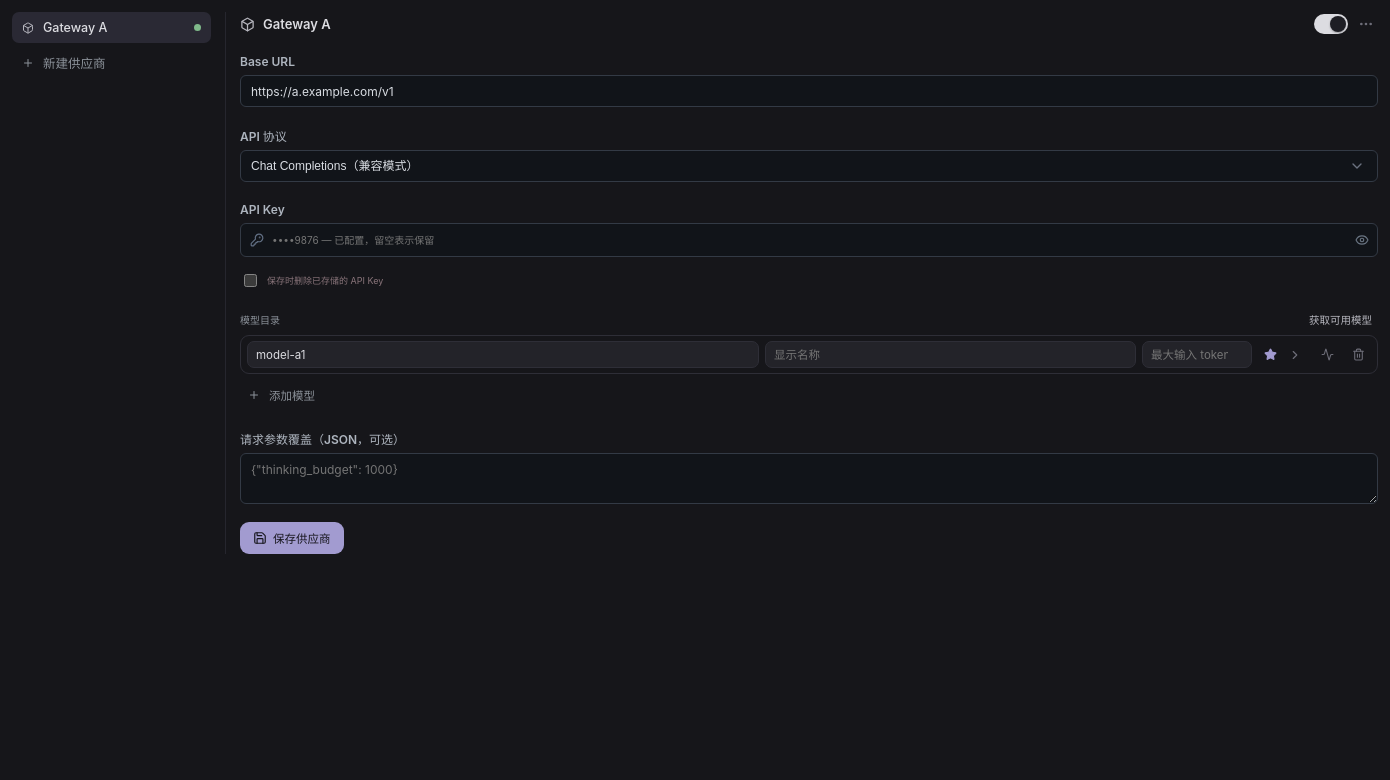
Test: ProviderManager › uses a header switch for enabled and renames from the ⋯ menu
The image size is (1390, 780).
Expected: the button named "更多操作" is shown, [1354,12,1378,36]
Click the switch named "启用该供应商" at (1331, 24), box [1314,14,1348,34]
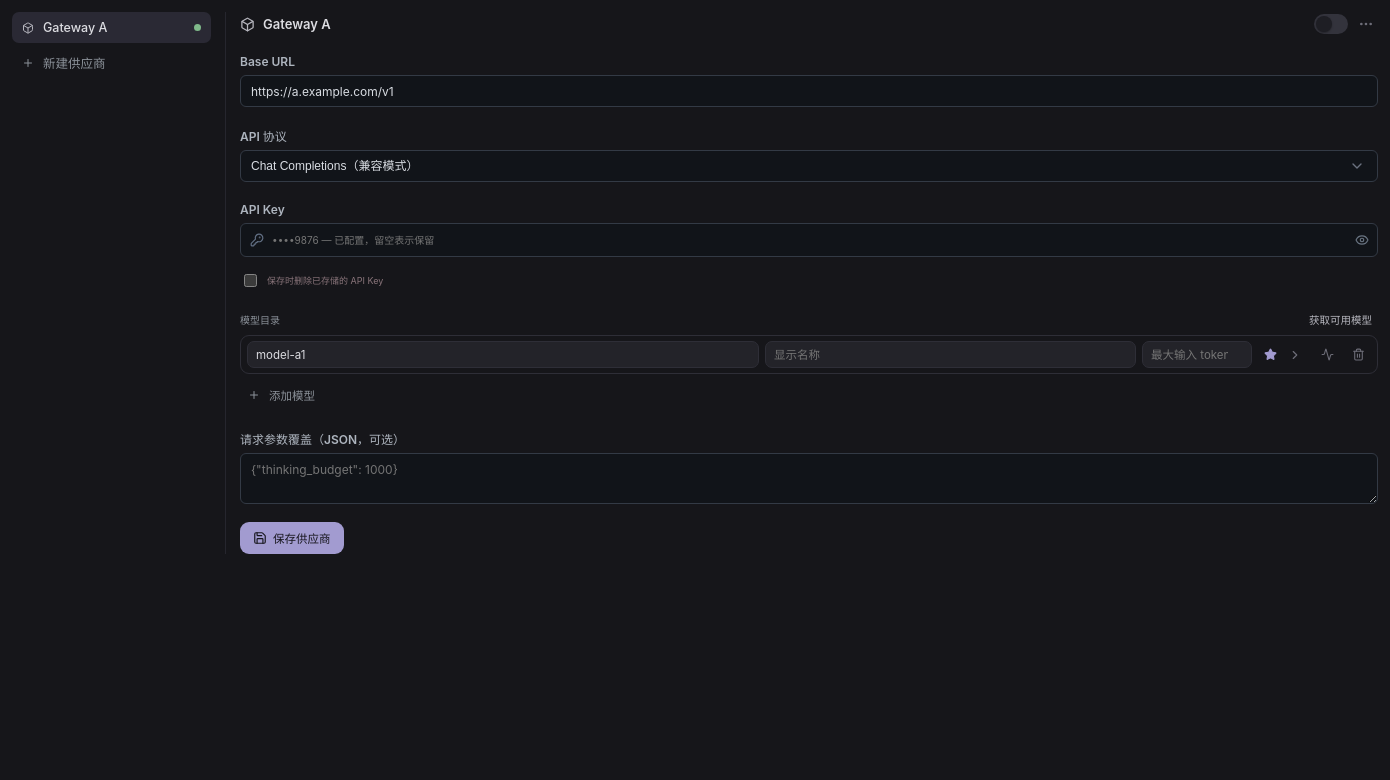
Expected: the switch named "启用该供应商" is not checked, [1314,14,1348,34]
Click the button named "更多操作" at (1366, 24), box [1354,12,1378,36]
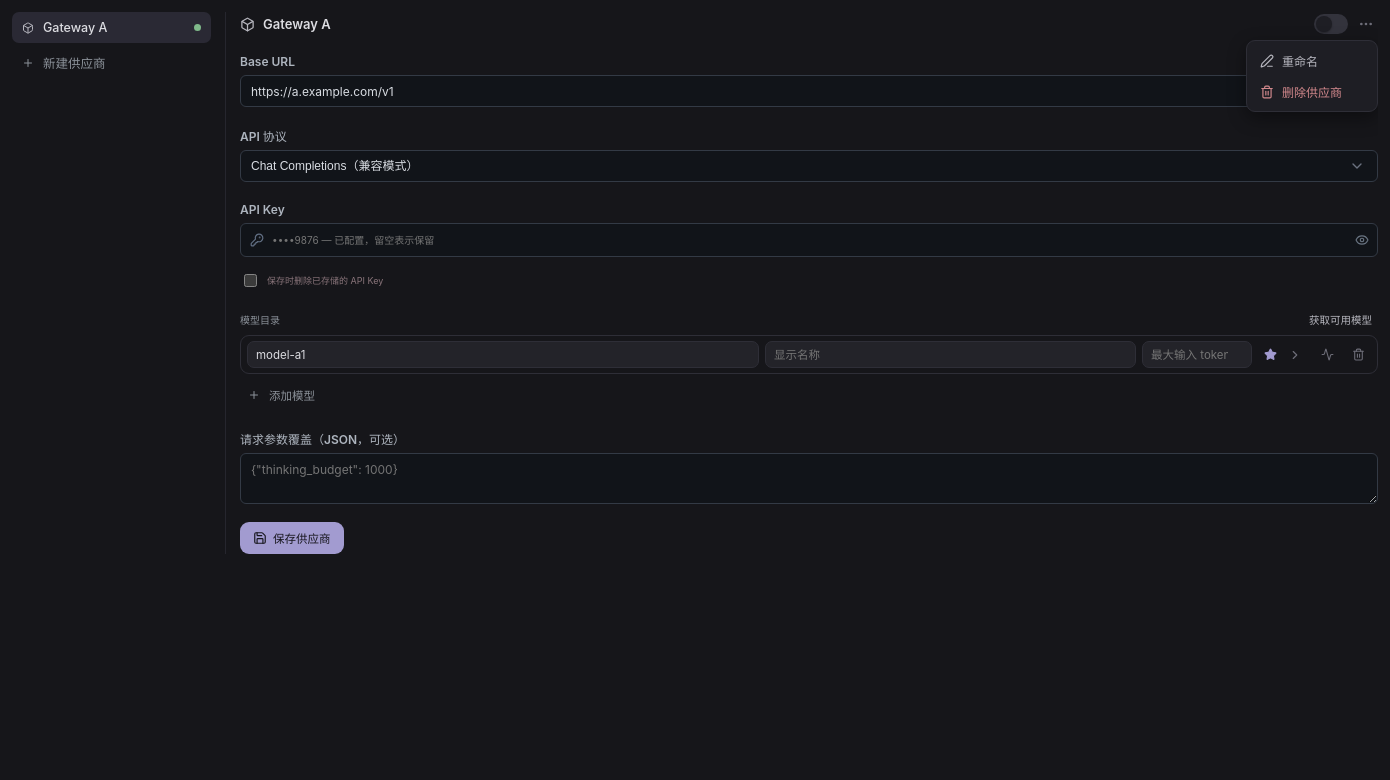
Click the menu item "重命名" at (1312, 60), box [1251,45,1373,76]
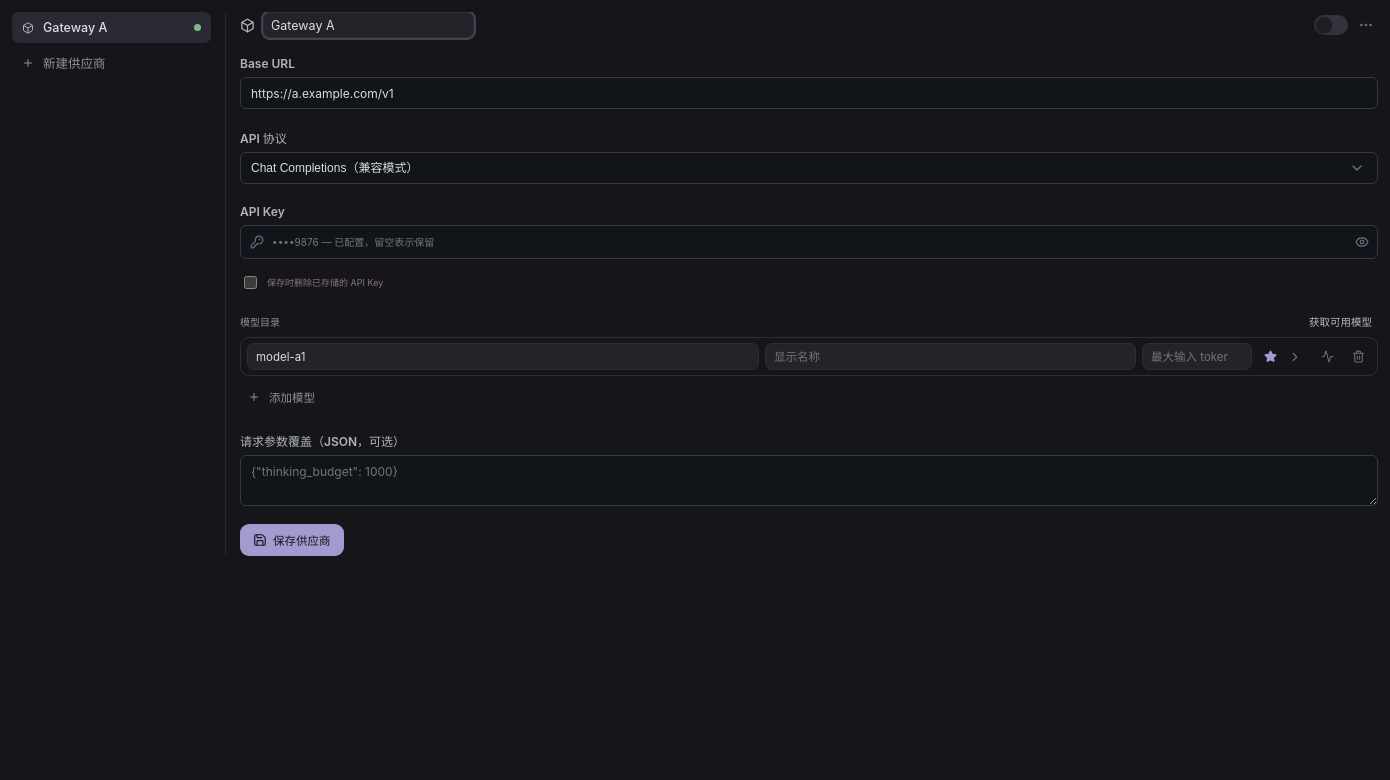
Replace the text in the 1st field showing "Gateway A" with "网关 A" at (368, 25), box [263,12,474,38]
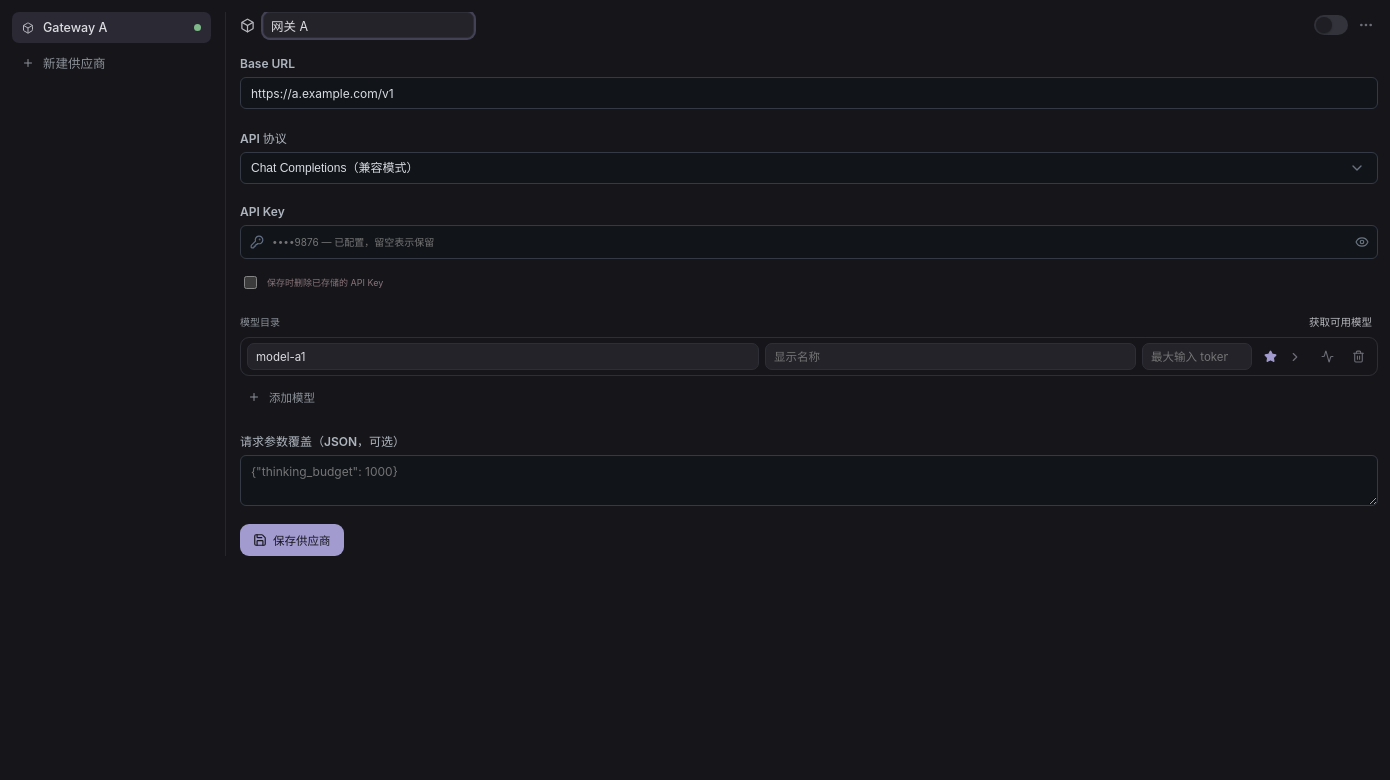
Leave the 1st field showing "Gateway A", box [263,12,474,38]
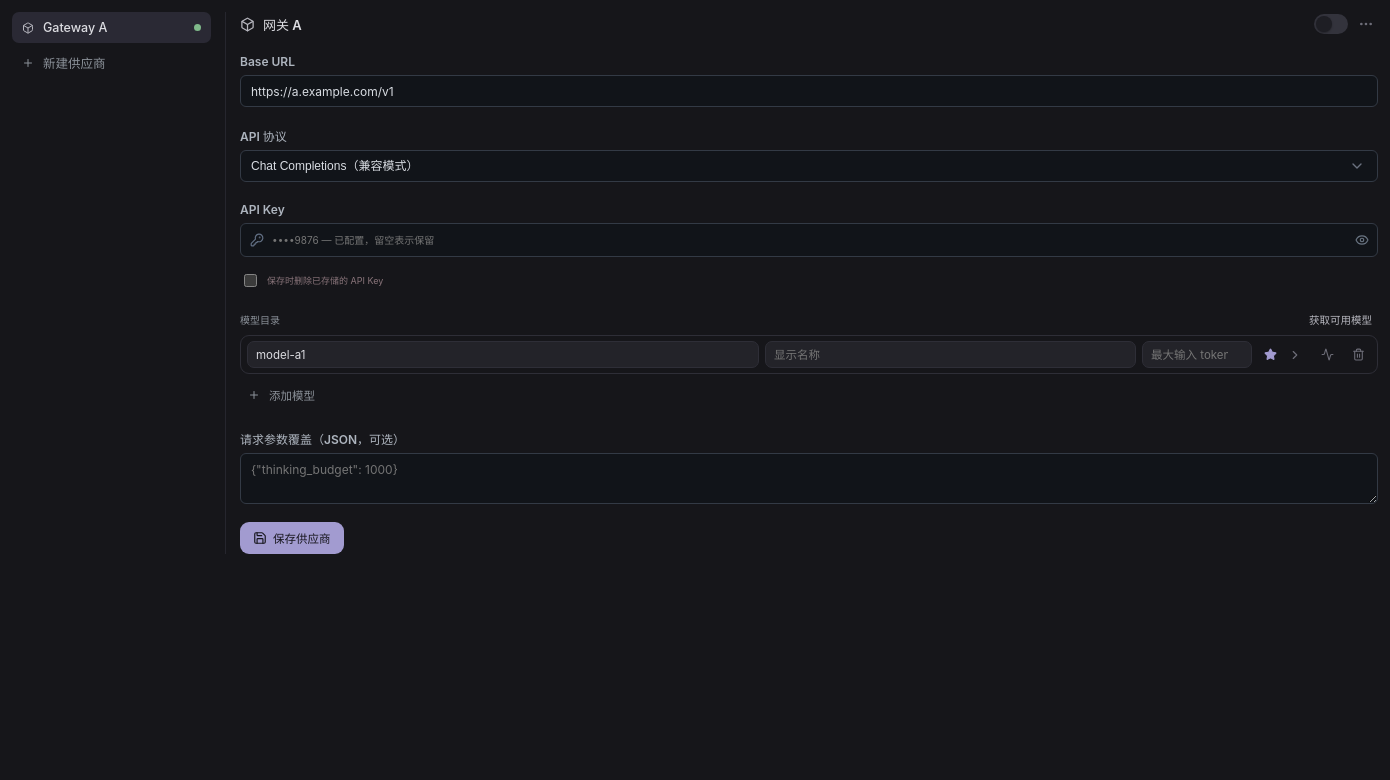
Expected: the text "网关 A" is shown, [263,14,302,34]
